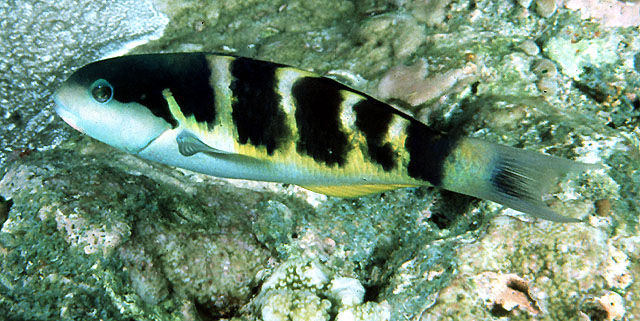fish: (53, 51, 595, 225)
